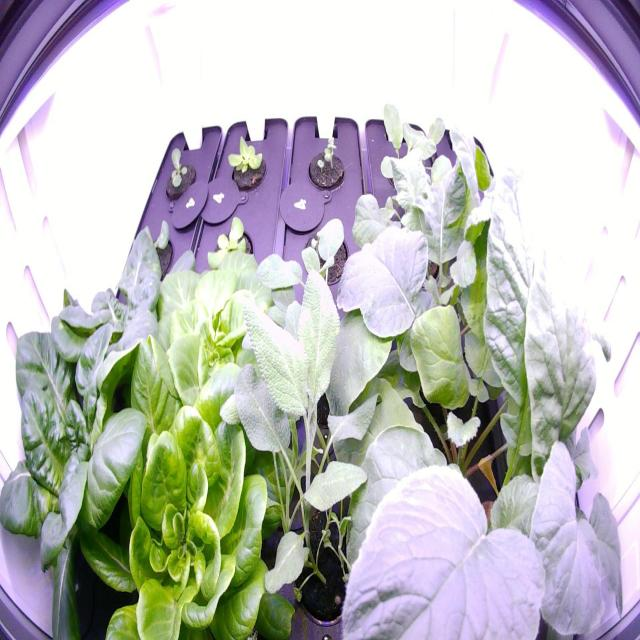Ready: (70, 328, 306, 638)
germination: (302, 129, 350, 200)
young: (0, 322, 162, 636), (127, 236, 327, 451), (39, 213, 202, 408), (198, 210, 258, 290), (125, 215, 179, 296), (221, 132, 271, 200), (159, 140, 200, 205)
